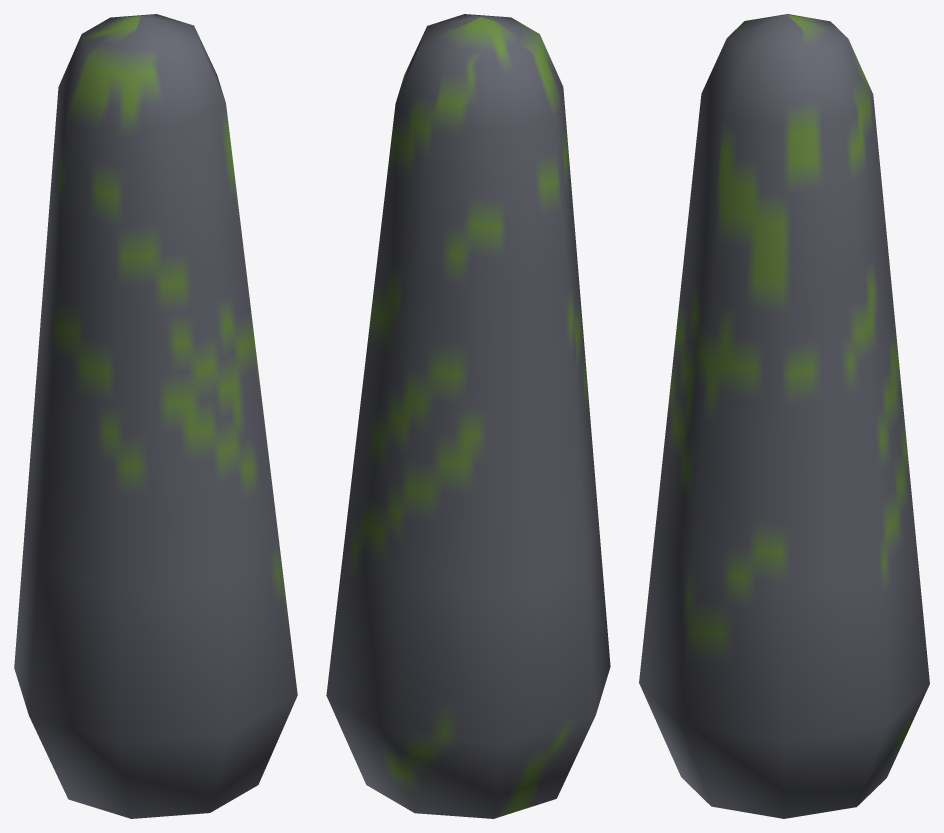
The model's file is prop_menhir4_1a56.glb.
The picture shows the model from 3 angles, left to right: view 1: azimuth 30°, elevation 25°; view 2: azimuth 150°, elevation 25°; view 3: azimuth 270°, elevation 25°; orthographic projection.
Parts seen in each view (by area): view 1: prop_menhir4_1a56; view 2: prop_menhir4_1a56; view 3: prop_menhir4_1a56.
Boxes of the visible parts, bbox=[...] form: prop_menhir4_1a56: bbox=[14, 14, 297, 818]; prop_menhir4_1a56: bbox=[326, 14, 610, 818]; prop_menhir4_1a56: bbox=[639, 14, 929, 818].
Size of the model in its own units: 0.3889 by 1.17 by 0.389.
1 material, 1 textured.
